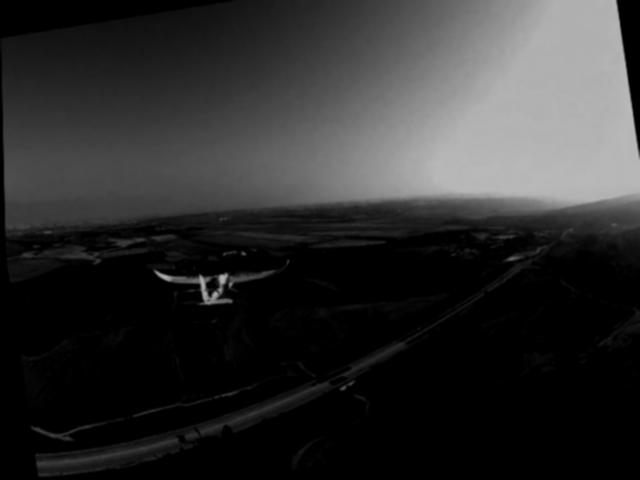hedef: (144, 244, 289, 321)
